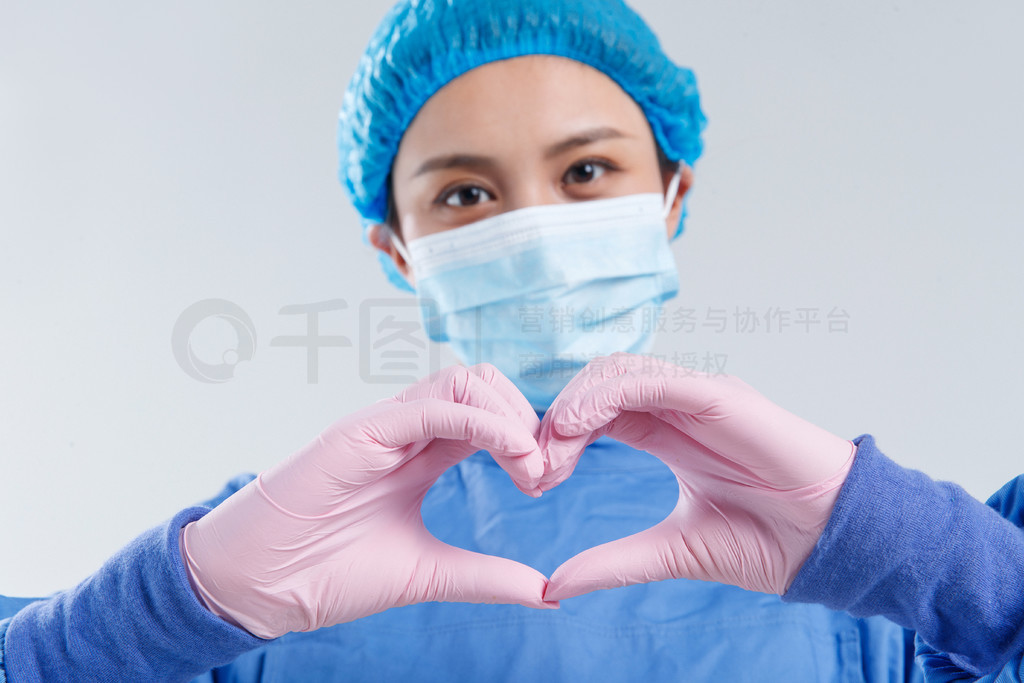with_mask: (357, 20, 699, 425)
